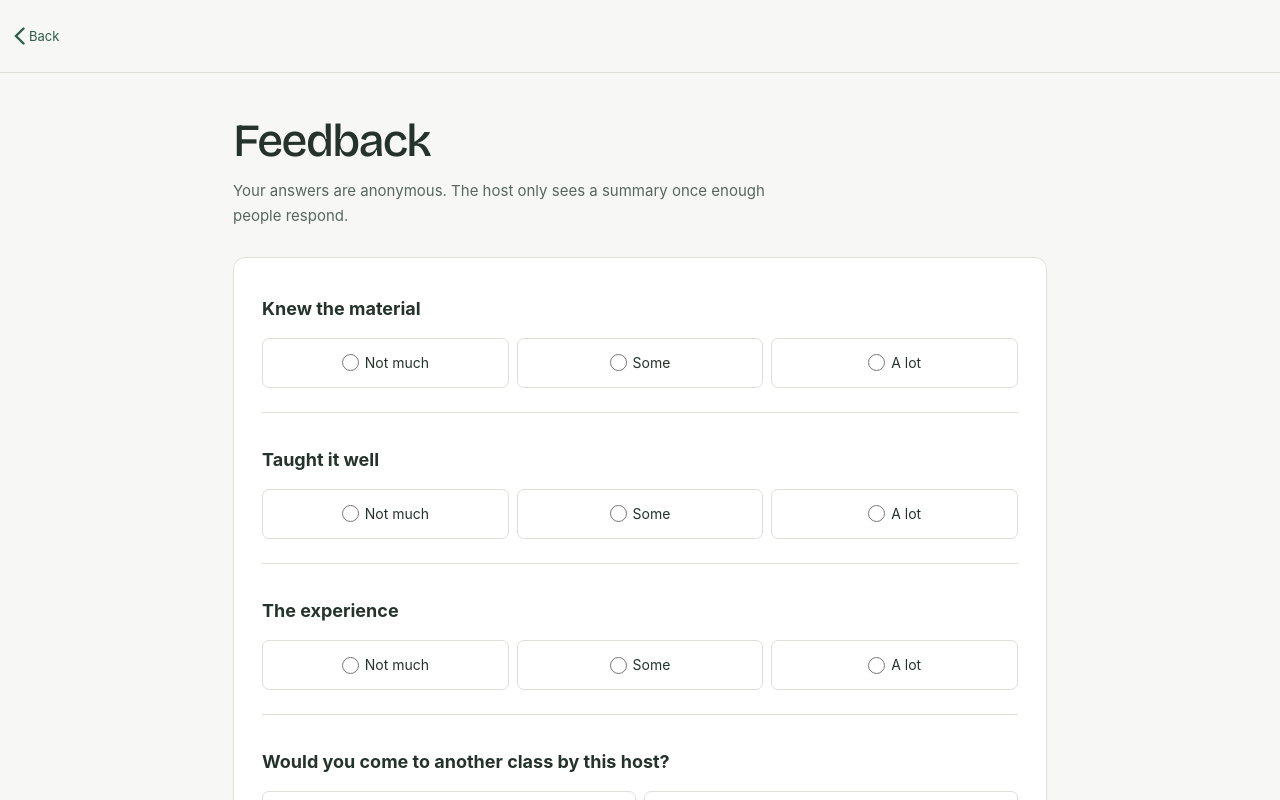
Test: FeedbackScreen › disables submit until the required direction question is answered
Expected: the text "Knew the material" is shown, [262,298,421,319]
# Answering a dial alone is not enough — dials and the note stay optional.
Click the 1st radio button labelled "A lot": (877, 363) [868,354,885,371]
(page scrolled)
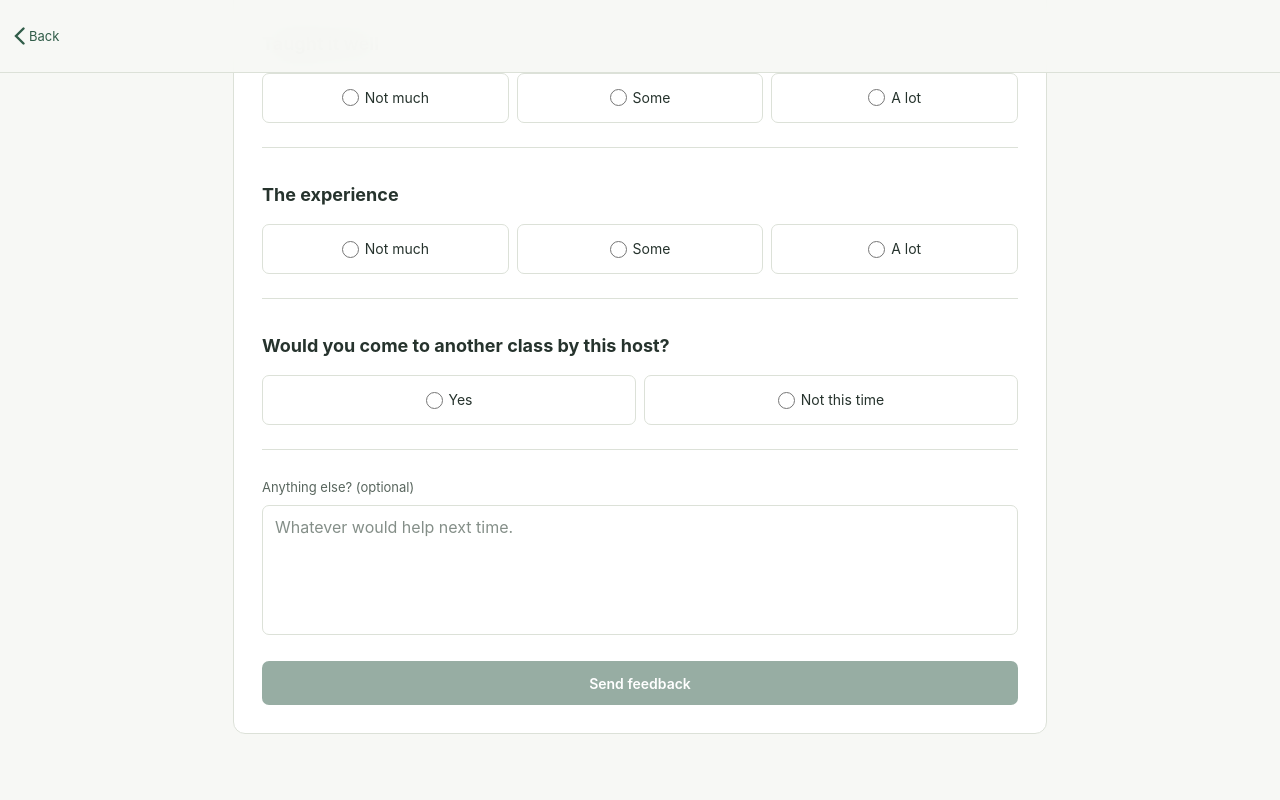
Result: the button "Send feedback" is disabled at [262,662,1018,706]
Click the radio button labelled "Yes": (434, 400) [426,392,442,409]
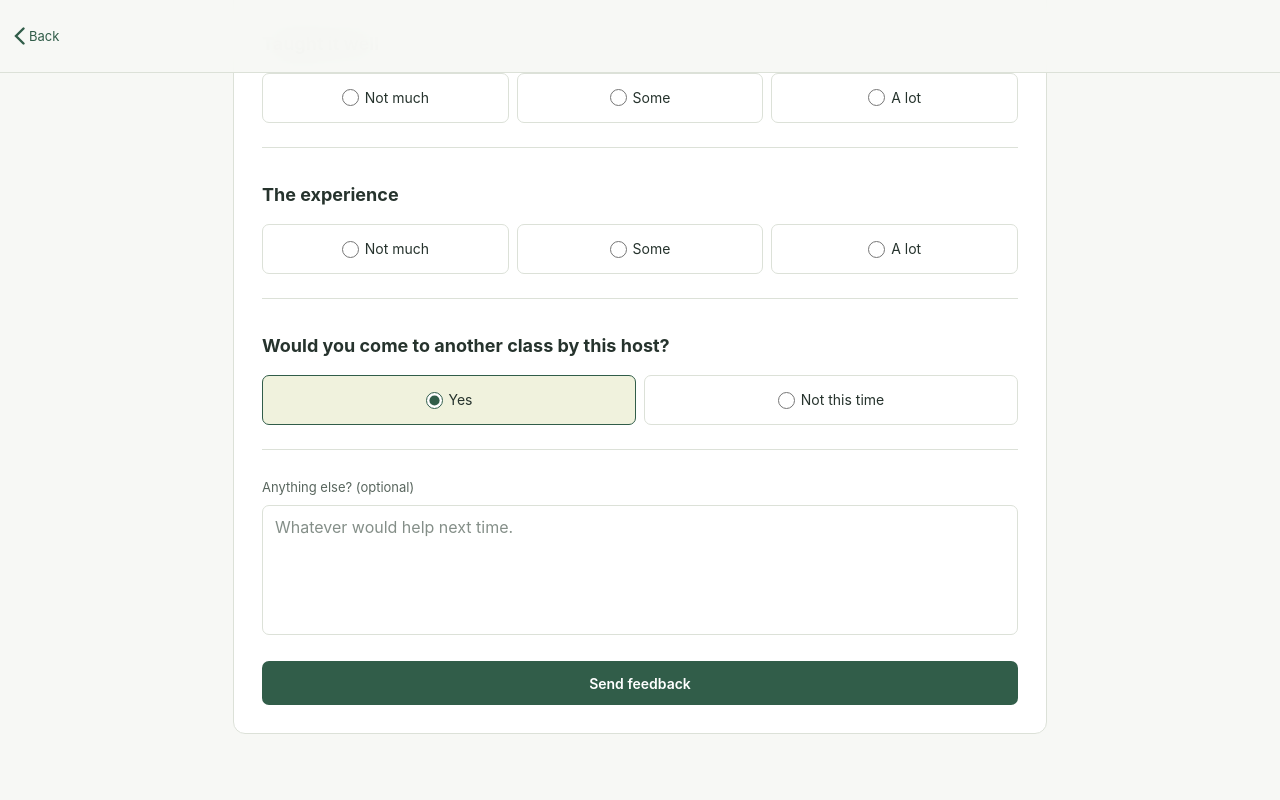
Result: the button "Send feedback" is enabled at [262,662,1018,706]
